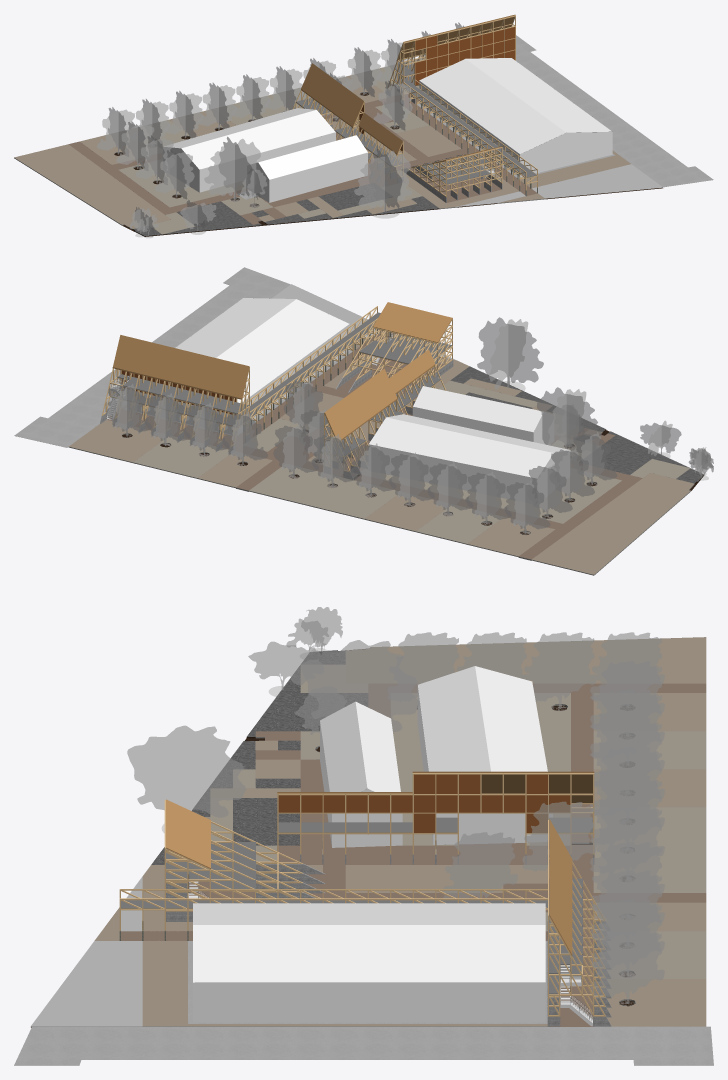
The model's file is quintin-arauz--001-cor-pcq-bim-a-deportivo-quintin-arauz.glb.
3 renders of one model, top to bottom at view 1: azimuth 30°, elevation 25°; view 2: azimuth 150°, elevation 25°; view 3: azimuth 270°, elevation 25°, orthographic. The views are drawn at different scales.
Visible parts, largest first — view 1: Floor - BIM_LOADING-Piedra Grande [796582], Basic Roof - Generic Roof - 150mm [802257], Floor - BIM_LOADING-Piedra Rectangular [797197], Floor - BIM_LOADING-Piso Pulido [799630], Basic Roof - Generic Roof - 150mm [800400], Floor - BIM_LOADING-Piedra chica 2 [796811], Floor - BIM_LOADING-Jardín [798111], M_RPC Tree - Deciduous - Scarlet Oak - 12.5 Meters [800047], Basic Wall - BIM_LOADING-Muro 250mm [801573], Floor - BIM_LOADING-Piso de Plazoleta 2 [799600], Basic Wall - BIM_LOADING-M1 [800885], M_RPC Tree - Deciduous - Scarlet Oak - 12.5 Meters [799983] (+31 smaller); view 2: Floor - BIM_LOADING-Piedra Grande [796582], Floor - BIM_LOADING-Piedra Rectangular [797197], Basic Roof - Generic Roof - 150mm [802257], Basic Roof - Generic Roof - 150mm [800400], Floor - BIM_LOADING-Piso Pulido [799630], Floor - BIM_LOADING-Piedra chica 2 [796811], Basic Roof - BIM_LOADING-PALMA 1 [882216], Basic Wall - BIM_LOADING-M1 [800069], M_RPC Tree - Deciduous - Scarlet Oak - 12.5 Meters [800047], M_RPC Tree - Deciduous - Scarlet Oak - 12.5 Meters [799983], Basic Roof - Generic Roof - 150mm [800973], Floor - BIM_LOADING-Jardín [798111] (+30 smaller); view 3: Floor - BIM_LOADING-Piedra Grande [796582], Basic Roof - Generic Roof - 150mm [802257], Floor - BIM_LOADING-Piedra Rectangular [797197], Floor - BIM_LOADING-Piso Pulido [799630], Basic Wall - BIM_LOADING-Muro 250mm [801723], Basic Roof - Generic Roof - 150mm [800400], Floor - BIM_LOADING-Piedra chica 2 [796811], M_RPC Tree - Deciduous - Scarlet Oak - 12.5 Meters [800047], Floor - BIM_LOADING-Piso de Plazoleta 2 [799600], M_RPC Tree - Deciduous - Scarlet Oak - 12.5 Meters [799983], Basic Roof - Generic Roof - 150mm [800973], Floor - BIM_LOADING-Piedra Chica [813073] (+35 smaller).
Boxes of the visible parts, box(x1,y1,x2,y2) form: Floor - BIM_LOADING-Piedra Grande [796582]: box(14, 58, 461, 229); Basic Roof - Generic Roof - 150mm [802257]: box(419, 58, 612, 154); Floor - BIM_LOADING-Piedra Rectangular [797197]: box(118, 60, 428, 234); Floor - BIM_LOADING-Piso Pulido [799630]: box(516, 35, 713, 187); Basic Roof - Generic Roof - 150mm [800400]: box(164, 108, 335, 169); Floor - BIM_LOADING-Piedra chica 2 [796811]: box(69, 98, 467, 214); Floor - BIM_LOADING-Jardín [798111]: box(162, 196, 439, 235); M_RPC Tree - Deciduous - Scarlet Oak - 12.5 Meters [800047]: box(354, 148, 411, 218); Basic Wall - BIM_LOADING-Muro 250mm [801573]: box(521, 132, 612, 176); Floor - BIM_LOADING-Piso de Plazoleta 2 [799600]: box(531, 164, 662, 198); Basic Wall - BIM_LOADING-M1 [800885]: box(270, 153, 367, 202); M_RPC Tree - Deciduous - Scarlet Oak - 12.5 Meters [799983]: box(204, 137, 260, 201); Floor - BIM_LOADING-Piedra Grande [796582]: box(68, 378, 694, 575); Floor - BIM_LOADING-Piedra Rectangular [797197]: box(133, 380, 690, 544); Basic Roof - Generic Roof - 150mm [802257]: box(175, 298, 349, 402); Basic Roof - Generic Roof - 150mm [800400]: box(369, 414, 569, 478); Floor - BIM_LOADING-Piso Pulido [799630]: box(14, 267, 290, 447); Floor - BIM_LOADING-Piedra chica 2 [796811]: box(236, 373, 642, 560); Basic Roof - BIM_LOADING-PALMA 1 [882216]: box(112, 335, 249, 399); Basic Wall - BIM_LOADING-M1 [800069]: box(369, 444, 535, 503); M_RPC Tree - Deciduous - Scarlet Oak - 12.5 Meters [800047]: box(477, 317, 543, 390); M_RPC Tree - Deciduous - Scarlet Oak - 12.5 Meters [799983]: box(537, 387, 601, 452); Basic Roof - Generic Roof - 150mm [800973]: box(413, 386, 543, 432); Floor - BIM_LOADING-Jardín [798111]: box(450, 366, 689, 474); Floor - BIM_LOADING-Piedra Grande [796582]: box(205, 637, 706, 1026); Basic Roof - Generic Roof - 150mm [802257]: box(193, 903, 545, 982); Floor - BIM_LOADING-Piedra Rectangular [797197]: box(210, 665, 706, 978); Floor - BIM_LOADING-Piso Pulido [799630]: box(14, 1026, 713, 1065); Basic Wall - BIM_LOADING-Muro 250mm [801723]: box(195, 982, 545, 1022); Basic Roof - Generic Roof - 150mm [800400]: box(418, 666, 547, 771); Floor - BIM_LOADING-Piedra chica 2 [796811]: box(300, 683, 706, 931); M_RPC Tree - Deciduous - Scarlet Oak - 12.5 Meters [800047]: box(127, 725, 245, 833); Floor - BIM_LOADING-Piso de Plazoleta 2 [799600]: box(30, 941, 142, 1026); M_RPC Tree - Deciduous - Scarlet Oak - 12.5 Meters [799983]: box(301, 640, 419, 731); Basic Roof - Generic Roof - 150mm [800973]: box(320, 701, 400, 791); Floor - BIM_LOADING-Piedra Chica [813073]: box(277, 843, 594, 864).
Size of the model in its own units: 110 by 14.94 by 75.78.
20 materials, 8 textured.
